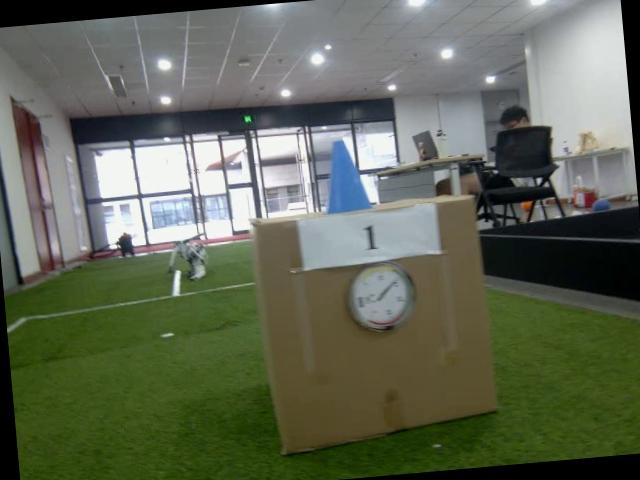1: (362, 224, 378, 250)
Dashboard: (344, 259, 418, 335)
blue_barrel: (318, 138, 371, 214)
ssi: (356, 294, 366, 307)
